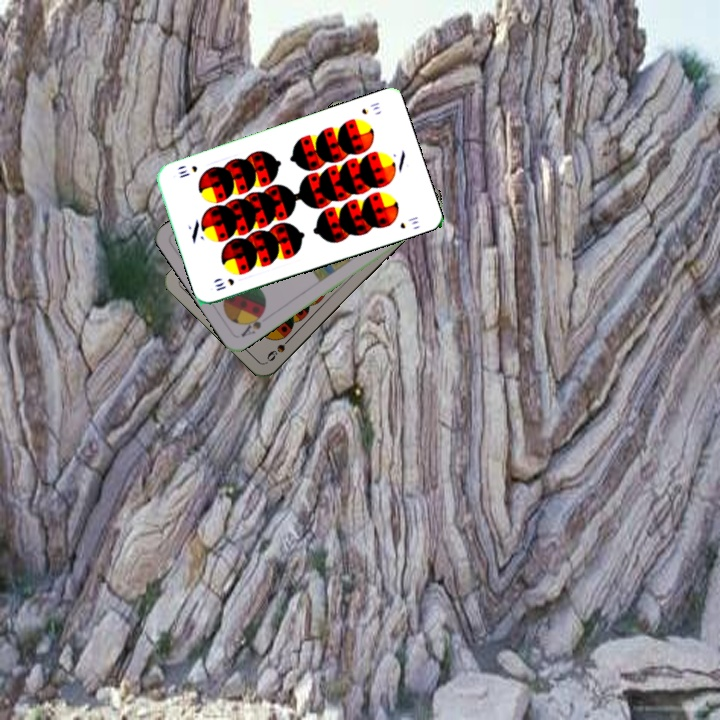S10: (211, 274, 237, 294), (358, 98, 382, 117)
S9: (262, 332, 295, 364)
SA: (237, 307, 268, 340)
